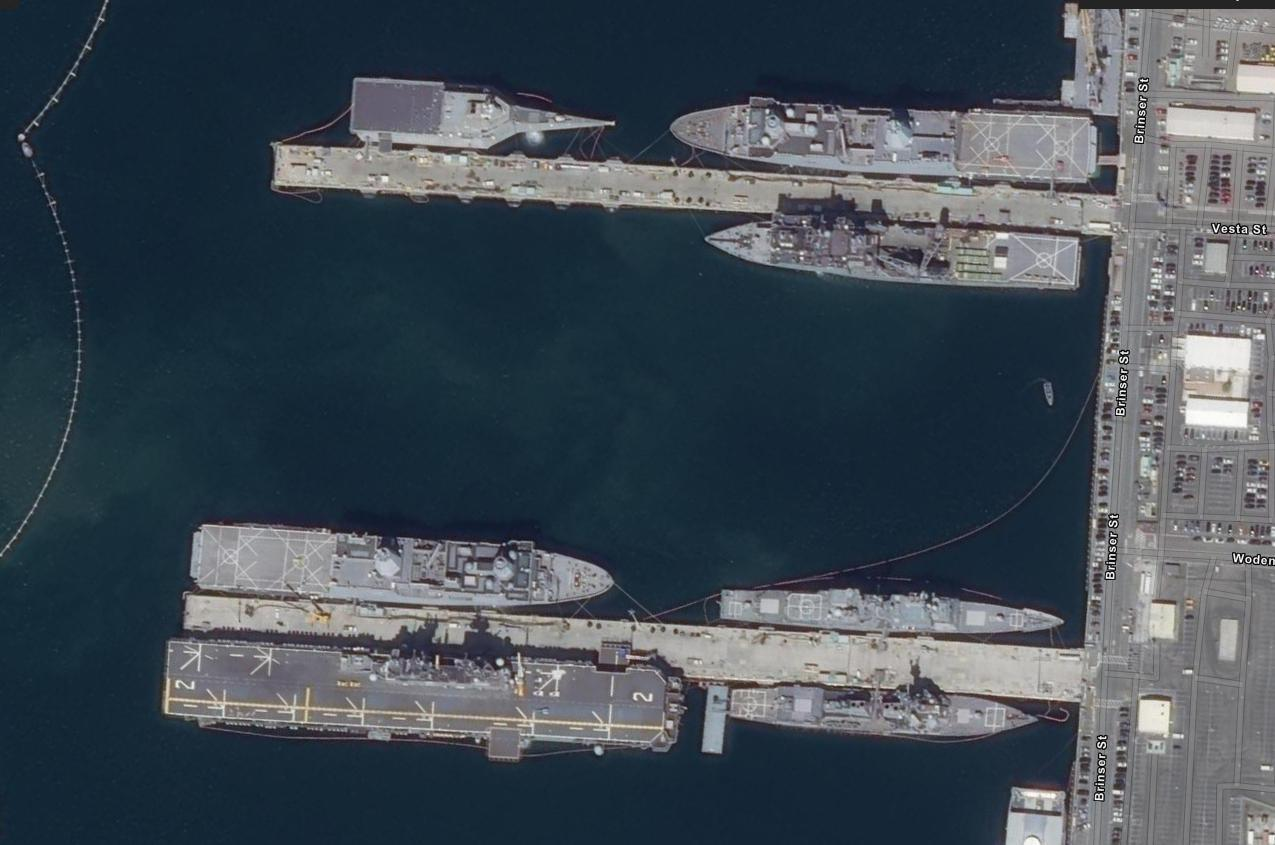amphiby: (665, 84, 1124, 191), (183, 515, 628, 622)
destroyer: (715, 584, 1080, 655)
fregate: (729, 679, 1051, 750)
littoral combat ship: (342, 65, 629, 166)
pha: (153, 630, 694, 766)
